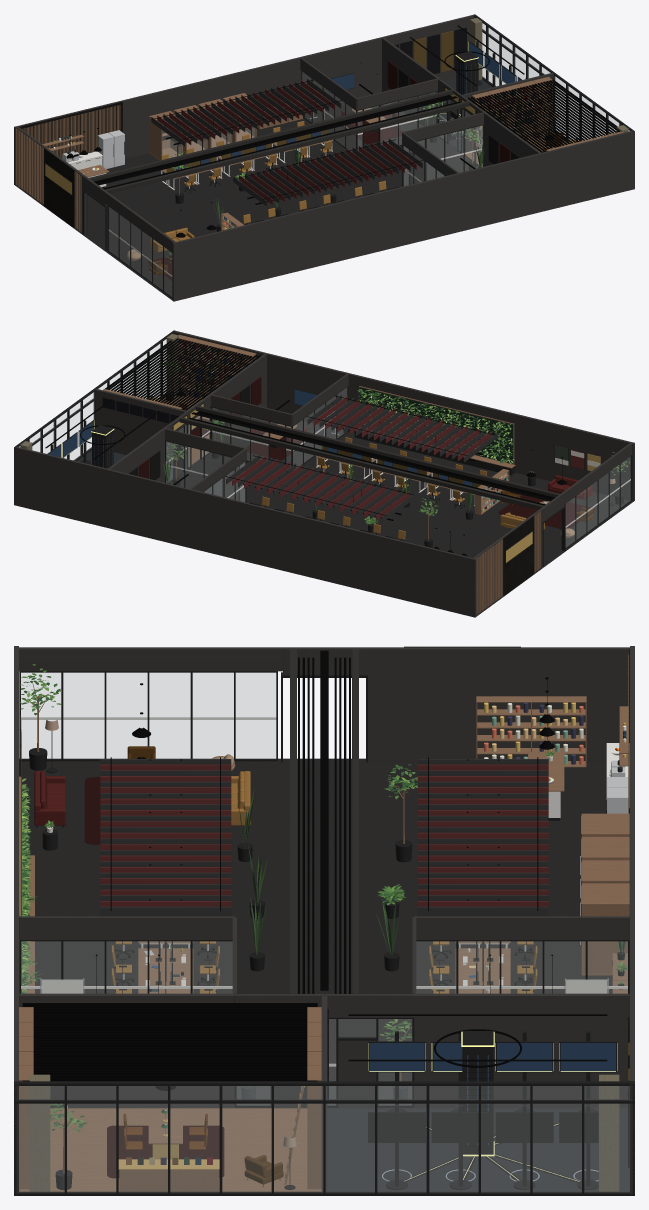
The model's file is wing-brass.glb.
3 renders of one model, top to bottom at view 1: azimuth 30°, elevation 25°; view 2: azimuth 150°, elevation 25°; view 3: azimuth 270°, elevation 25°, orthographic. The views are drawn at different scales.
Visible parts, largest first — view 1: wing-brass-baked-paint-wall, wing-brass-baked-floor, wing-brass-ceiling-felt, wing-brass-glass-glass, wing-brass-ceiling-wood, wing-brass-baked-metal-dark, wing-brass-baked-wood, wing-brass-baked-wood-dark, wing-brass-baked-felt, wing-brass-ceiling-ceiling, wing-brass-baked-plaster-accent, wing-brass-baked-fabric (+8 smaller); view 2: wing-brass-baked-paint-wall, wing-brass-baked-floor, wing-brass-ceiling-felt, wing-brass-glass-glass, wing-brass-ceiling-wood, wing-brass-baked-metal-dark, wing-brass-baked-paint, wing-brass-ceiling-ceiling, wing-brass-baked-felt, wing-brass-baked-wood, wing-brass-baked-foliage, wing-brass-baked-fabric (+7 smaller); view 3: wing-brass-glass-glass, wing-brass-baked-paint-wall, wing-brass-baked-floor, wing-brass-ceiling-felt, wing-brass-baked-metal-dark, wing-brass-ceiling-wood, wing-brass-baked-wood-dark, wing-brass-baked-paint, wing-brass-baked-wood, wing-brass-baked-foliage, wing-brass-baked-fabric, wing-brass-baked-gloss (+14 smaller).
Part boxes in pixels (box(x1,y1,x2,y2)): wing-brass-baked-paint-wall: box(14, 15, 634, 301); wing-brass-baked-floor: box(15, 103, 479, 300); wing-brass-ceiling-felt: box(151, 79, 422, 206); wing-brass-glass-glass: box(104, 23, 621, 296); wing-brass-ceiling-wood: box(94, 78, 619, 189); wing-brass-baked-metal-dark: box(45, 14, 634, 298); wing-brass-baked-wood: box(16, 93, 385, 232); wing-brass-baked-wood-dark: box(22, 76, 624, 276); wing-brass-baked-felt: box(148, 27, 520, 280); wing-brass-ceiling-ceiling: box(89, 89, 469, 193); wing-brass-baked-plaster-accent: box(18, 101, 122, 227); wing-brass-baked-fabric: box(127, 104, 558, 260); wing-brass-baked-paint-wall: box(14, 331, 634, 617); wing-brass-baked-floor: box(169, 419, 633, 616); wing-brass-ceiling-felt: box(226, 395, 497, 522); wing-brass-glass-glass: box(27, 339, 630, 547); wing-brass-ceiling-wood: box(103, 338, 554, 505); wing-brass-baked-metal-dark: box(14, 330, 631, 566); wing-brass-baked-paint: box(77, 339, 600, 540); wing-brass-ceiling-ceiling: box(179, 405, 559, 509); wing-brass-baked-felt: box(102, 377, 594, 528); wing-brass-baked-wood: box(263, 386, 549, 614); wing-brass-baked-foliage: box(159, 353, 629, 524); wing-brass-baked-fabric: box(179, 403, 615, 539); wing-brass-glass-glass: box(19, 673, 629, 1192); wing-brass-baked-paint-wall: box(14, 646, 634, 1195); wing-brass-baked-floor: box(19, 758, 629, 1191); wing-brass-ceiling-felt: box(100, 759, 548, 916); wing-brass-baked-metal-dark: box(14, 671, 634, 1195); wing-brass-ceiling-wood: box(22, 657, 350, 1081); wing-brass-baked-wood-dark: box(19, 654, 628, 1191); wing-brass-baked-paint: box(21, 717, 629, 1191); wing-brass-baked-wood: box(19, 696, 629, 993); wing-brass-baked-foliage: box(20, 664, 627, 1132); wing-brass-baked-fabric: box(34, 719, 537, 1149); wing-brass-baked-gloss: box(29, 702, 626, 1190).
Size of what is drawn, in the model's own units: 30 by 3.63 by 18.
Materials: 28 (9 with a texture image).
